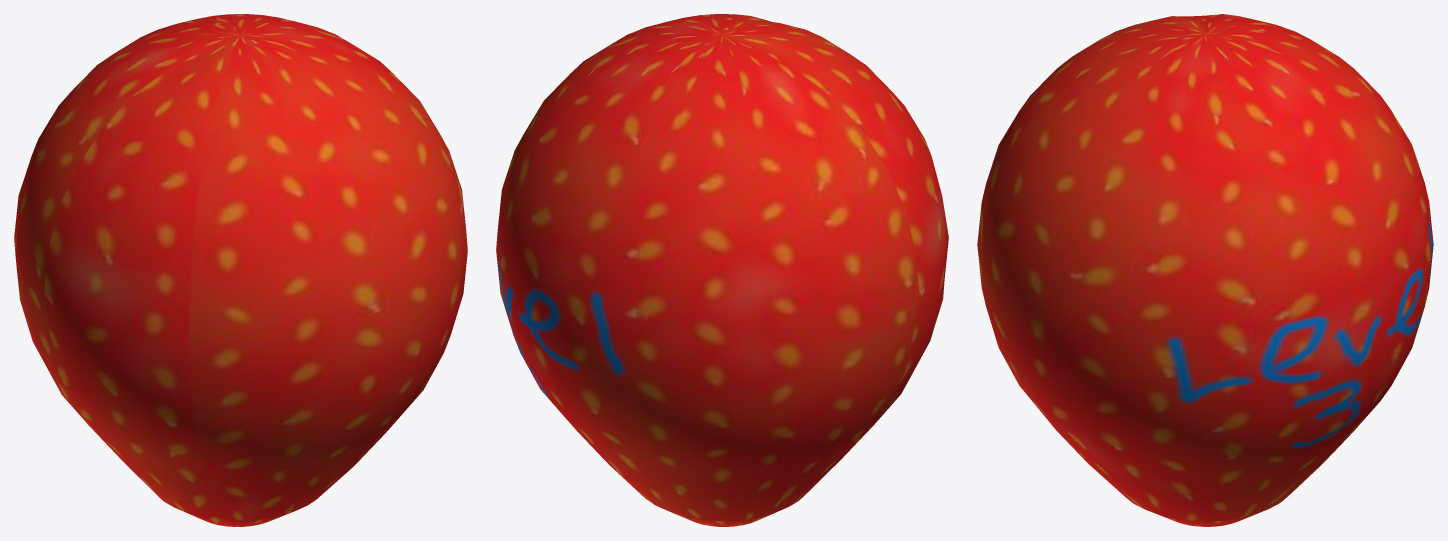
File: strawb3.glb
The picture shows the model from 3 angles, left to right: view 1: azimuth 30°, elevation 25°; view 2: azimuth 150°, elevation 25°; view 3: azimuth 270°, elevation 25°; orthographic projection.
Parts seen in each view (by area): view 1: Sphere; view 2: Sphere; view 3: Sphere.
Boxes of the visible parts, x1,y1,x2,y2 form: Sphere: [14, 14, 467, 526]; Sphere: [496, 14, 948, 526]; Sphere: [977, 14, 1433, 526].
Size of the model in its own units: 2.02 by 2.34 by 2.02.
1 material, 1 textured.
